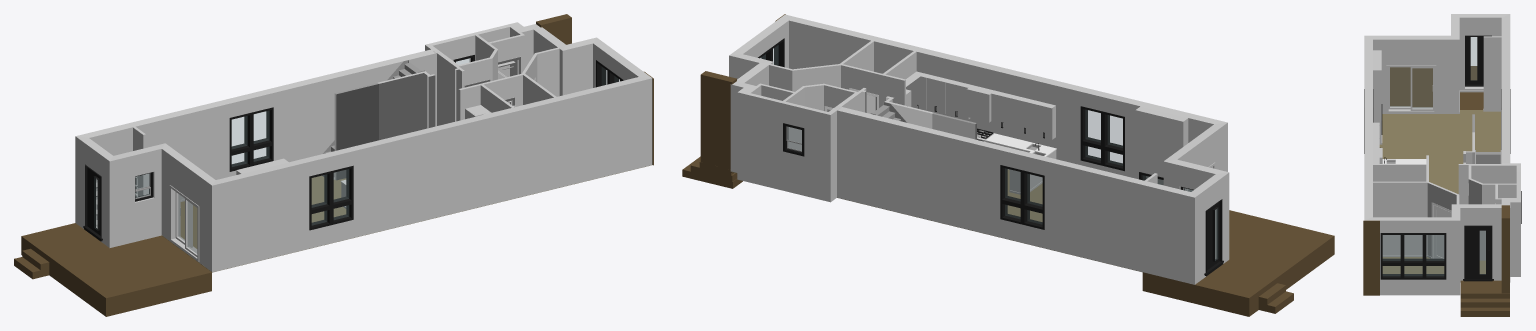
The model's file is eastridge-7.gltf.
The picture shows the model from 3 angles, left to right: view 1: azimuth 30°, elevation 25°; view 2: azimuth 150°, elevation 25°; view 3: azimuth 270°, elevation 25°; orthographic projection. The views are drawn at different scales.
Parts seen in each view (by area): view 1: mainFloor_wall_outsideShape, main_entrance|mainFloor_wall_outside1:PIV, back_deck:PIV, pCube38:PIV, pCube40:PIV, pCube219:PIV, pCube221:PIV, main_floor|floor_main:PIV, pCube42:PIV, pCube223:PIV, pCube222:PIV, pCube60:PIV (+10 smaller); view 2: mainFloor_wall_outsideShape, main_entrance|mainFloor_wall_outside1:PIV, back_deck:PIV, pCube107:PIV, pCube256:PIV, pCube221:PIV, pCube219:PIV, pCube223:PIV, pCube222:PIV, pCube64:PIV, pCube227:PIV, pCube203:PIV (+12 smaller); view 3: mainFloor_wall_outsideShape, main_entrance|mainFloor_wall_outside1:PIV, main_floor|floor_main:PIV, pCube53:PIV, back_deck:PIV, main_windowShape, backdoor_wall:PIV, mainFloor_wall_outside|pCube487:PIV, pCube106:PIV, pCube609:PIV, pCube64:PIV, pCube242:PIV (+27 smaller).
Boxes of the visible parts, box(x1,y1,x2,y2) form: mainFloor_wall_outsideShape: box(75, 27, 652, 272); main_entrance|mainFloor_wall_outside1:PIV: box(425, 22, 652, 205); back_deck:PIV: box(21, 223, 211, 316); pCube38:PIV: box(334, 83, 378, 180); pCube40:PIV: box(378, 71, 426, 140); pCube219:PIV: box(309, 165, 353, 230); pCube221:PIV: box(229, 107, 273, 171); main_floor|floor_main:PIV: box(162, 165, 649, 272); pCube42:PIV: box(437, 53, 464, 125); pCube223:PIV: box(232, 111, 269, 166); pCube222:PIV: box(312, 169, 348, 225); pCube60:PIV: box(535, 47, 559, 96); mainFloor_wall_outsideShape: box(743, 21, 1229, 284); main_entrance|mainFloor_wall_outside1:PIV: box(729, 14, 953, 202); back_deck:PIV: box(1142, 210, 1334, 316); pCube107:PIV: box(700, 71, 736, 172); pCube256:PIV: box(1135, 106, 1188, 179); pCube221:PIV: box(1000, 165, 1044, 229); pCube219:PIV: box(1080, 106, 1124, 171); pCube223:PIV: box(1005, 168, 1042, 224); pCube222:PIV: box(1085, 110, 1122, 165); pCube64:PIV: box(783, 83, 828, 150); pCube227:PIV: box(1206, 200, 1221, 272); pCube203:PIV: box(966, 85, 993, 122); mainFloor_wall_outsideShape: box(1364, 14, 1520, 295); main_entrance|mainFloor_wall_outside1:PIV: box(1364, 150, 1520, 295); main_floor|floor_main:PIV: box(1379, 110, 1500, 273); pCube53:PIV: box(1373, 181, 1428, 255); back_deck:PIV: box(1390, 66, 1483, 109); main_windowShape: box(1380, 233, 1446, 279); backdoor_wall:PIV: box(1483, 36, 1501, 109); mainFloor_wall_outside|pCube487:PIV: box(1363, 220, 1379, 295); pCube106:PIV: box(1465, 226, 1491, 278); pCube609:PIV: box(1373, 164, 1428, 181); pCube64:PIV: box(1468, 177, 1516, 204); pCube242:PIV: box(1412, 68, 1432, 108).
Bounding box in the file's own units: 15.36 × 2.73 × 4.21.
